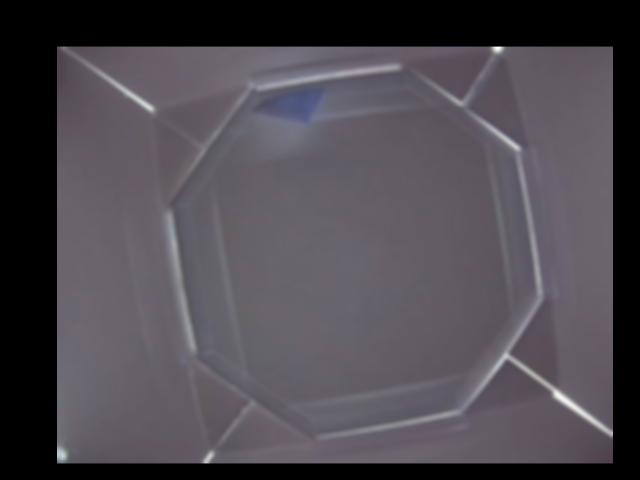Mooli: (252, 86, 324, 122)
